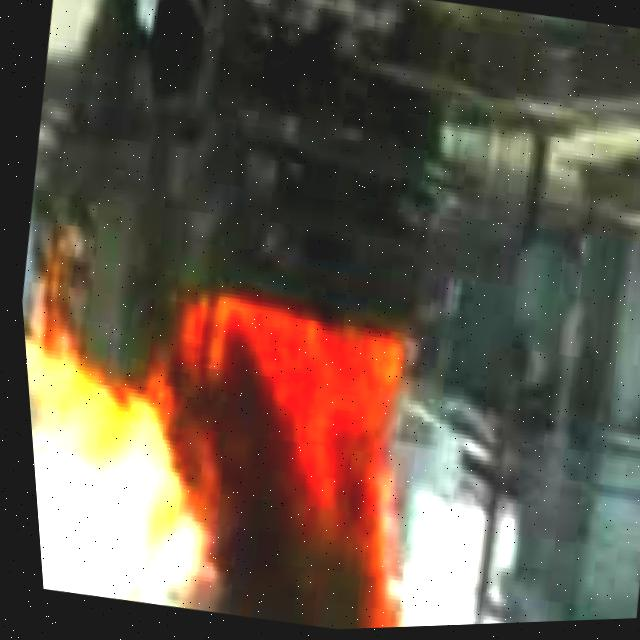Fire: (151, 295, 408, 513), (20, 333, 139, 469)
Smoke: (116, 371, 385, 637)
